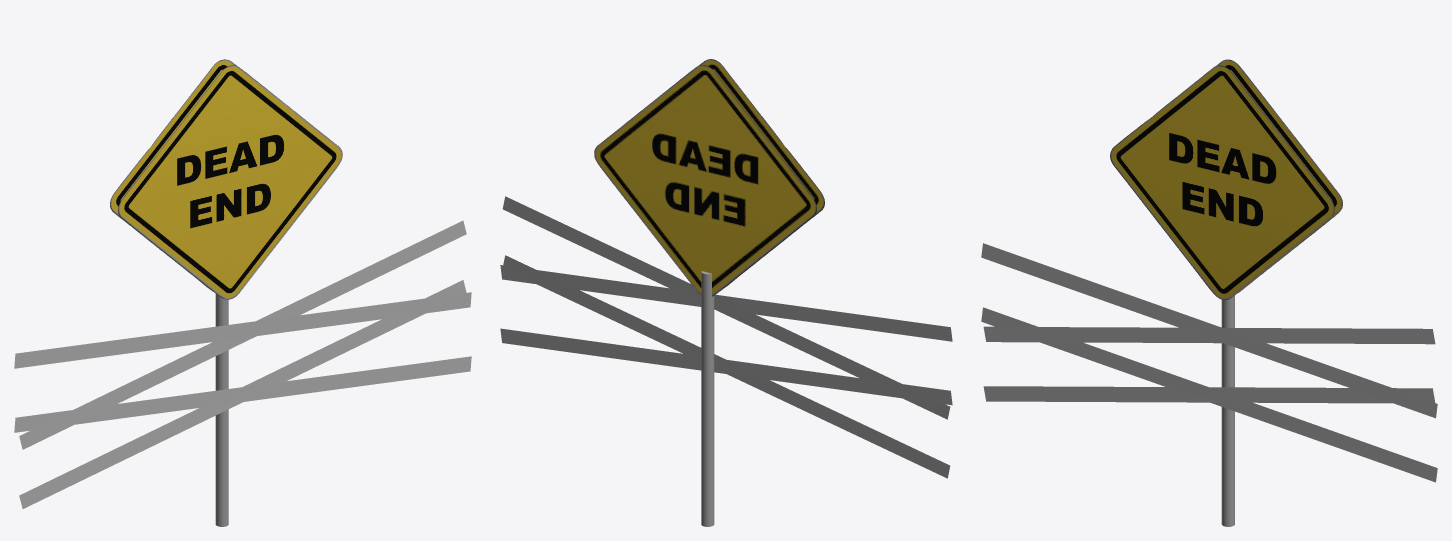
Rendered from DEAD_END_SIGN.fbx.
3 renders of one model, left to right at view 1: azimuth 30°, elevation 25°; view 2: azimuth 150°, elevation 25°; view 3: azimuth 330°, elevation 25°, orthographic.
Visible parts, largest first — view 1: SIGN, STRIP_4, STRIP_5, STRIP_3, STRIP_2, pCylinder1; view 2: SIGN, STRIP_3, STRIP_2, STRIP_5, STRIP_4, pCylinder1; view 3: SIGN, STRIP_4, STRIP_5, STRIP_3, STRIP_2, pCylinder1.
Part boxes in pixels (left/top/right/bottom): SIGN: left=110, top=59, right=342, bottom=299; STRIP_4: left=14, top=292, right=471, bottom=368; STRIP_5: left=19, top=220, right=466, bottom=449; STRIP_3: left=19, top=280, right=466, bottom=508; STRIP_2: left=14, top=356, right=471, bottom=432; pCylinder1: left=215, top=294, right=228, bottom=526; SIGN: left=594, top=59, right=824, bottom=296; STRIP_3: left=502, top=255, right=950, bottom=478; STRIP_2: left=500, top=328, right=952, bottom=405; STRIP_5: left=502, top=196, right=950, bottom=419; STRIP_4: left=500, top=265, right=952, bottom=341; pCylinder1: left=701, top=271, right=714, bottom=526; SIGN: left=1110, top=59, right=1342, bottom=299; STRIP_4: left=981, top=243, right=1437, bottom=418; STRIP_5: left=983, top=326, right=1435, bottom=344; STRIP_3: left=983, top=386, right=1435, bottom=403; STRIP_2: left=981, top=307, right=1437, bottom=482; pCylinder1: left=1221, top=295, right=1234, bottom=526.
Size of the model in its own units: 5.57 by 5.58 by 0.5185.
